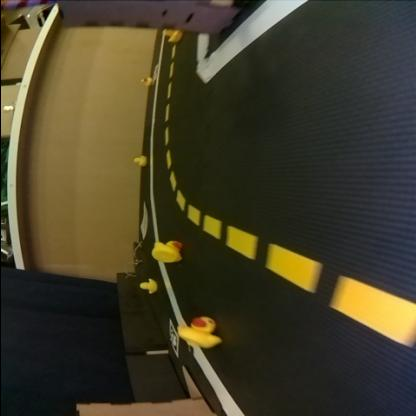Duckie: (178, 318, 218, 348), (150, 241, 180, 262), (161, 30, 181, 42), (139, 279, 155, 293), (132, 156, 144, 166), (139, 78, 149, 86)
QR code: (167, 320, 176, 357), (151, 65, 157, 82)
